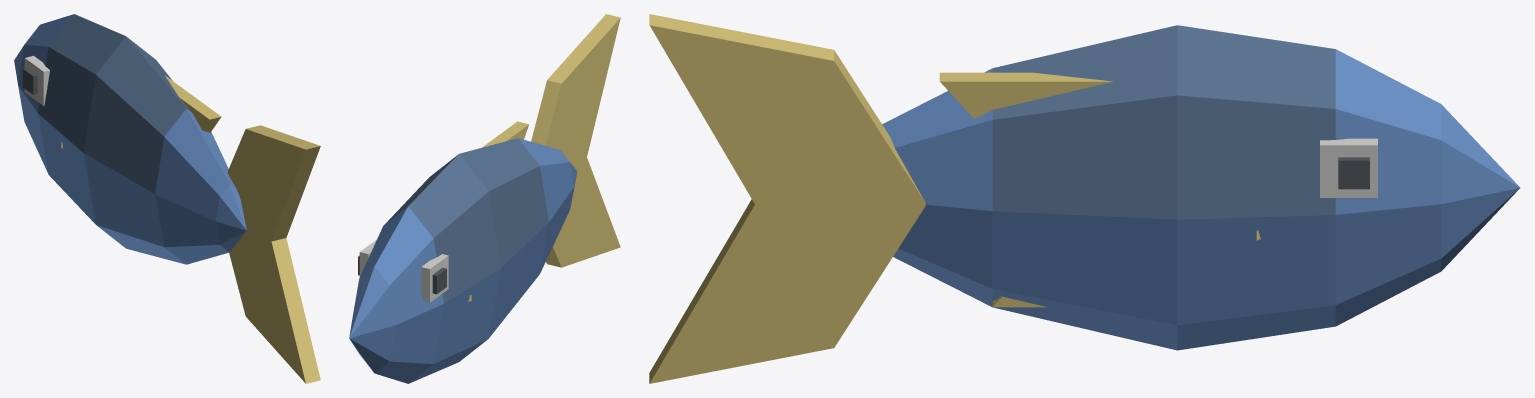
File: fish_blue_tang.glb
The picture shows the model from 3 angles, left to right: view 1: azimuth 30°, elevation 25°; view 2: azimuth 150°, elevation 25°; view 3: azimuth 270°, elevation 25°; orthographic projection. The views are drawn at different scales.
Visible parts, largest first — view 1: fish_blue_tang; view 2: fish_blue_tang; view 3: fish_blue_tang.
Boxes of the visible parts, bbox=[...] form: fish_blue_tang: bbox=[14, 14, 320, 383]; fish_blue_tang: bbox=[349, 14, 620, 383]; fish_blue_tang: bbox=[649, 14, 1520, 383].
Bounding box in the file's own units: 0.0571 × 0.15 × 0.33.
